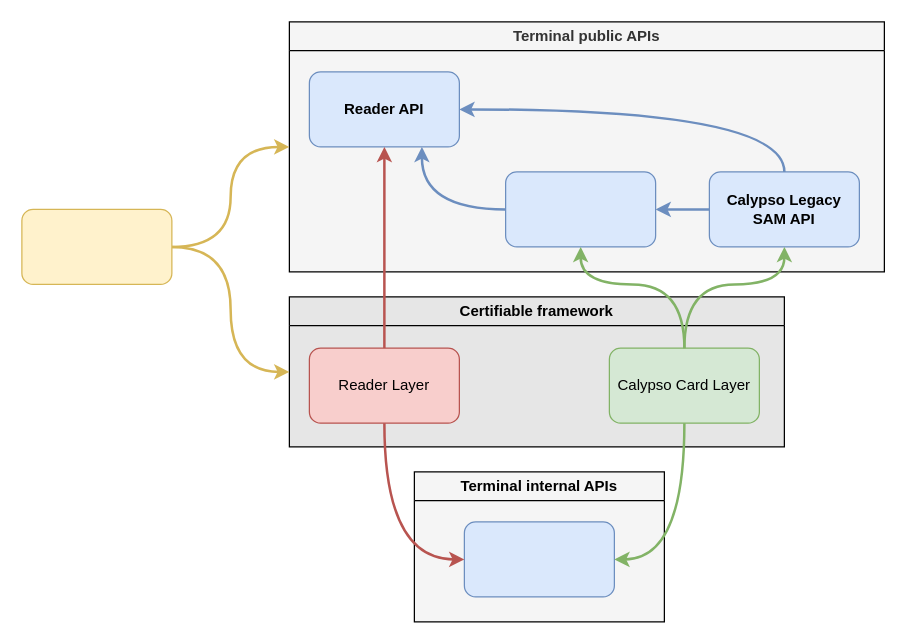
The diagram is 906 pixels wide and 644 high, and some of its shapes have lost their labels. The shapes that lost their labels are listed below. From the top down, each one's centre as x and y in pixels, then its label:
At pixel 580 209: "Calypso Card API".
At pixel 96 246: "Client Application".
At pixel 538 559: "Card API".
